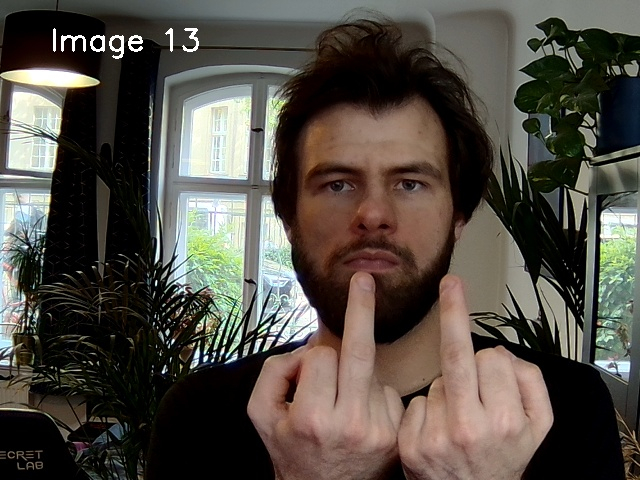Peace Among Worlds: (234, 264, 563, 475)
